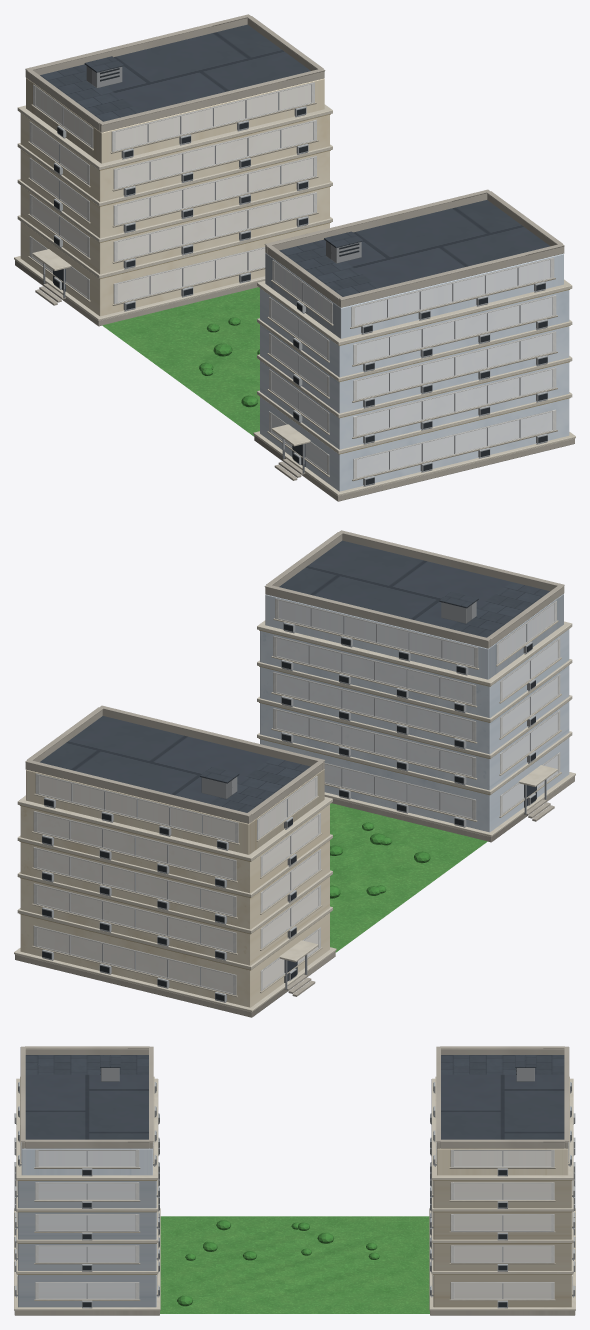
File: ov-dorm.glb
3 views of the same model, one above another, from view 1: azimuth 30°, elevation 25°; view 2: azimuth 150°, elevation 25°; view 3: azimuth 270°, elevation 25° (orthographic). The views are drawn at different scales.
Parts seen in each view (by area): view 1: dormB_body_F1_F4, dormA_body_F1_F4, dormB_roof_slab, dormA_roof_slab, dorm_lawn_between, dormB_body_F5_inset, dormA_body_F5_inset, dormA_winband_F3_S_glass, dormA_winband_F4_S_glass, dormA_winband_F2_S_glass, dormA_winband_F5_S_glass, dormB_winband_F4_S_glass (+33 smaller); view 2: dormA_body_F1_F4, dormB_body_F1_F4, dormB_roof_slab, dormA_roof_slab, dorm_lawn_between, dormA_body_F5_inset, dormB_body_F5_inset, dormB_winband_F3_N_glass, dormB_winband_F4_N_glass, dormB_winband_F2_N_glass, dormB_winband_F5_N_glass, dormA_winband_F4_N_glass (+33 smaller); view 3: dorm_lawn_between, dormA_body_F1_F4, dormB_body_F1_F4, dormB_roof_slab, dormA_roof_slab, dormA_body_F5_inset, dormB_body_F5_inset, dormA_winband_F4_E_glass, dormB_winband_F4_E_glass, dormA_cornice_F5, dormB_cornice_F5, dormA_winband_F1_E_glass (+29 smaller).
Part boxes in pixels (x1,y1,x2,y2): dormB_body_F1_F4: [260, 288, 569, 491]; dormA_body_F1_F4: [20, 113, 329, 316]; dormB_roof_slab: [279, 200, 549, 296]; dormA_roof_slab: [40, 24, 310, 121]; dorm_lawn_between: [102, 287, 259, 436]; dormB_body_F5_inset: [265, 253, 563, 338]; dormA_body_F5_inset: [26, 78, 324, 163]; dormA_winband_F3_S_glass: [117, 158, 313, 223]; dormA_winband_F4_S_glass: [117, 122, 313, 187]; dormA_winband_F2_S_glass: [117, 194, 313, 259]; dormA_winband_F5_S_glass: [115, 84, 311, 149]; dormB_winband_F4_S_glass: [357, 297, 552, 362]; dormA_body_F1_F4: [20, 804, 329, 1007]; dormB_body_F1_F4: [260, 629, 569, 832]; dormB_roof_slab: [279, 540, 549, 637]; dormA_roof_slab: [40, 716, 310, 812]; dorm_lawn_between: [330, 803, 487, 952]; dormA_body_F5_inset: [26, 769, 324, 854]; dormB_body_F5_inset: [265, 594, 563, 679]; dormB_winband_F3_N_glass: [276, 674, 472, 739]; dormB_winband_F4_N_glass: [276, 638, 472, 703]; dormB_winband_F2_N_glass: [276, 710, 472, 775]; dormB_winband_F5_N_glass: [278, 600, 474, 665]; dormA_winband_F4_N_glass: [37, 813, 232, 878]; dorm_lawn_between: [160, 1216, 429, 1313]; dormA_body_F1_F4: [433, 1181, 571, 1307]; dormB_body_F1_F4: [18, 1181, 156, 1307]; dormB_roof_slab: [25, 1055, 148, 1139]; dormA_roof_slab: [441, 1055, 564, 1139]; dormA_body_F5_inset: [437, 1148, 568, 1175]; dormB_body_F5_inset: [21, 1148, 152, 1175]; dormA_winband_F4_E_glass: [454, 1183, 551, 1199]; dormB_winband_F4_E_glass: [38, 1183, 135, 1199]; dormA_cornice_F5: [431, 1078, 573, 1180]; dormB_cornice_F5: [16, 1078, 158, 1180]; dormA_winband_F1_E_glass: [454, 1283, 551, 1298].
Size of the model in its own units: 21.8 by 17.27 by 48.7.
Materials: 16 (15 with a texture image).
